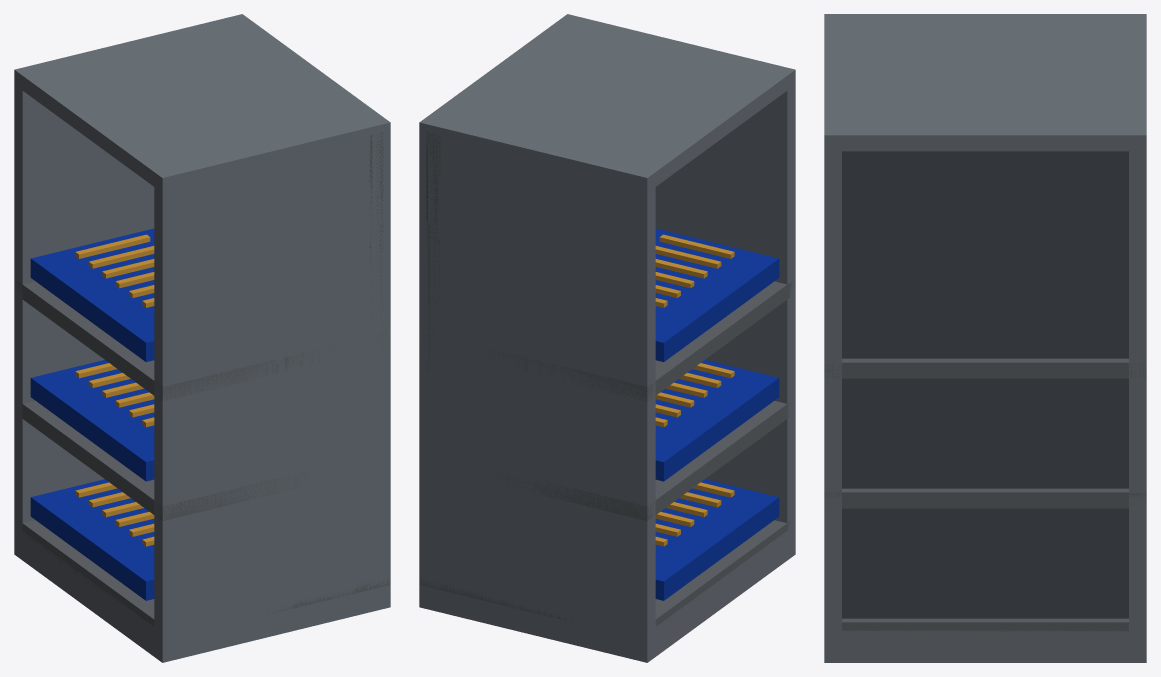
The model's file is L32_LAN_USB_C.fbx.
3 views of the same model, side by side, from view 1: azimuth 30°, elevation 25°; view 2: azimuth 150°, elevation 25°; view 3: azimuth 270°, elevation 25° (orthographic). The views are drawn at different scales.
Visible parts, largest first — view 1: LAN_USB_C_Steel, LAN_USB_C_Blue, LAN_USB_C_Silver, LAN_USB_C_Gold; view 2: LAN_USB_C_Steel, LAN_USB_C_Blue, LAN_USB_C_Silver, LAN_USB_C_Gold, LAN_USB_C_Gray; view 3: LAN_USB_C_Gray, LAN_USB_C_Steel, LAN_USB_C_Silver.
Part boxes in pixels (bbox=[...]): LAN_USB_C_Steel: bbox=[14, 14, 390, 662]; LAN_USB_C_Blue: bbox=[30, 228, 154, 600]; LAN_USB_C_Silver: bbox=[14, 281, 390, 626]; LAN_USB_C_Gold: bbox=[75, 234, 154, 546]; LAN_USB_C_Steel: bbox=[419, 14, 795, 662]; LAN_USB_C_Blue: bbox=[655, 228, 779, 600]; LAN_USB_C_Silver: bbox=[419, 280, 794, 626]; LAN_USB_C_Gold: bbox=[655, 234, 734, 546]; LAN_USB_C_Gray: bbox=[426, 132, 440, 369]; LAN_USB_C_Gray: bbox=[842, 151, 1128, 618]; LAN_USB_C_Steel: bbox=[824, 14, 1146, 662]; LAN_USB_C_Silver: bbox=[824, 358, 1146, 632].
Bounding box in the file's own units: 1.6 × 3.25 × 1.8.
